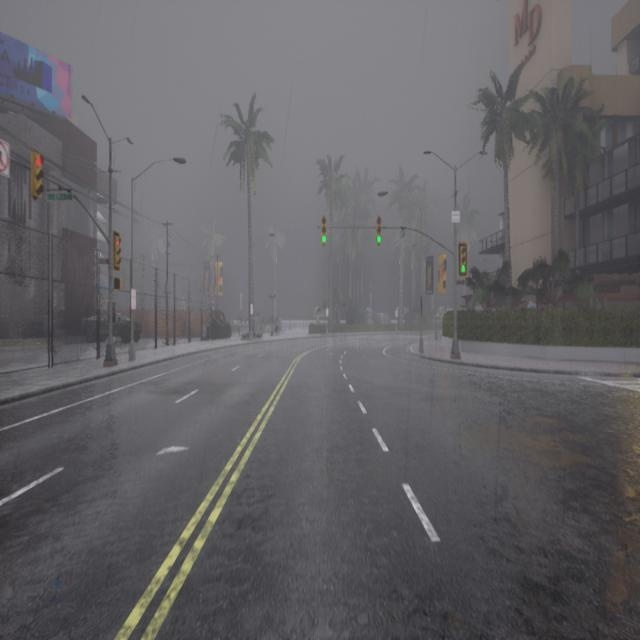bien_chi_dan: (29, 148, 45, 202), (113, 232, 122, 272), (458, 243, 468, 276), (320, 214, 328, 248), (375, 215, 383, 247), (34, 152, 44, 167), (115, 234, 121, 247), (321, 232, 327, 245), (376, 234, 382, 244), (460, 264, 466, 274)
